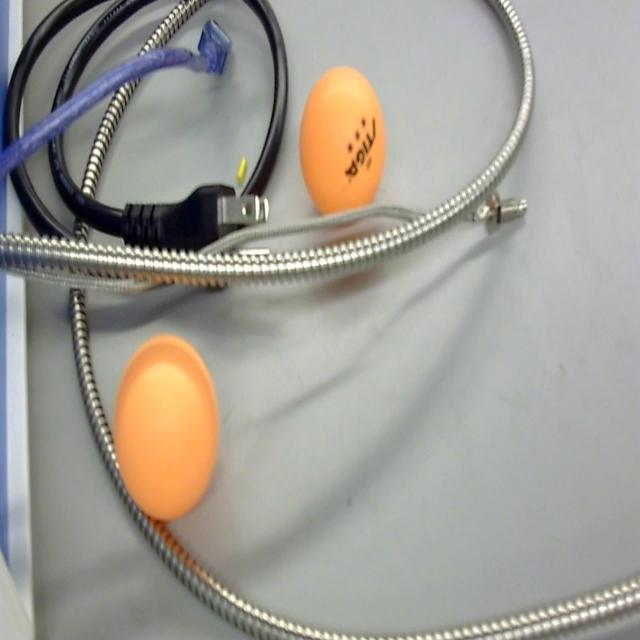ball: (113, 334, 219, 524), (298, 64, 386, 220)
